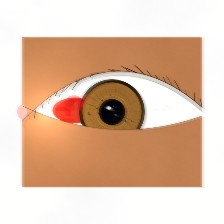hemorrhage_spot: (44, 86, 106, 135)
